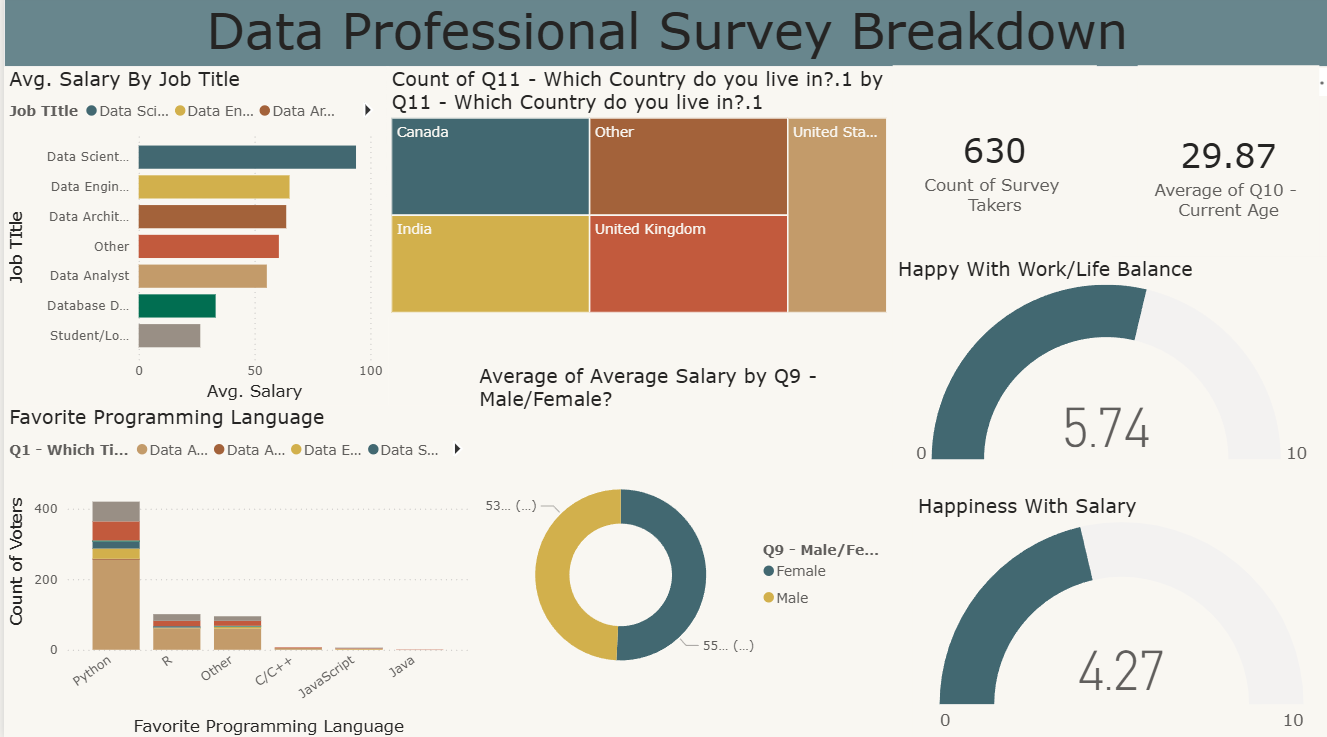

The page's visual inventory and layout, read from the dashboard file:
{"tool":"powerbi","page":{"name":"DP Survey","canvas":[1280,720],"ordinal":0},"visuals":[{"type":"textbox","box":[0,0,1280.3,69.5],"z":0},{"type":"card","fields":{"Values":["CountNonNull(Data Professional Survey.Unique ID)"]},"box":[857.6,68.9,197.2,183.7],"z":1000},{"type":"card","fields":{"Values":["Avg(Data Professional Survey.Q10 - Current Age)"]},"box":[1093.9,68.9,175.6,194.5],"z":2000},{"type":"barChart","title":"Avg. Salary By Job Title ","fields":{"Category":["Data Professional Survey.Q1 - Which Title Best Fits your Current Role?.1"],"Y":["Avg(Data Professional Survey.Average Salary)"],"Series":["Data Professional Survey.Q1 - Which Title Best Fits your Current Role?.1"]},"box":[0,69.5,370.9,327.2],"z":3000},{"type":"columnChart","title":"  Favorite Programming Language ","fields":{"Category":["Data Professional Survey.Q5 - Favorite Programming Language.1"],"Y":["CountNonNull(Data Professional Survey.Unique ID)"],"Series":["Data Professional Survey.Q1 - Which Title Best Fits your Current Role?.1"]},"box":[0,396.8,454,323.1],"z":4000},{"type":"treemap","fields":{"Group":["Data Professional Survey.Q11 - Which Country do you live in?.1"],"Values":["Count(Data Professional Survey.Q11 - Which Country do you live in?.1)"]},"box":[369.5,69.5,488.1,242.7],"z":5000},{"type":"gauge","title":"Happy With Work/Life Balance","fields":{"Y":["Avg(Data Professional Survey.Q6 - How Happy are you in your Current Position with the following? (Work/Life Balance))"],"MinValue":["Min(Data Professional Survey.Q6 - How Happy are you in your Current Position with the following? (Work/Life Balance))"],"MaxValue":["Max(Data Professional Survey.Q6 - How Happy are you in your Current Position with the following? (Work/Life Balance))1"]},"box":[857.6,253.6,422.7,205.9],"z":6000},{"type":"gauge","title":"Happiness With Salary","fields":{"Y":["Avg(Data Professional Survey.Q6 - How Happy are you in your Current Position with the following? (Salary))"],"MinValue":["Min(Data Professional Survey.Q6 - How Happy are you in your Current Position with the following? (Salary))1"],"MaxValue":["Max(Data Professional Survey.Q6 - How Happy are you in your Current Position with the following? (Salary))2"]},"box":[876.7,482.7,403.6,237.2],"z":7000},{"type":"donutChart","fields":{"Category":["Data Professional Survey.Q9 - Male/Female?"],"Y":["Avg(Data Professional Survey.Average Salary)"]},"box":[454,357.2,403.6,362.7],"z":8000}]}

Visuals, with their boxes in screenshot pixels (x1, y1, x2, y2), scaled from the page's 1280x720 canvas onto the 1327x737 screenshot:
textbox: {"left": 0, "top": 0, "right": 1326, "bottom": 71}
card - CountNonNull(Data Professional Survey.Unique ID): {"left": 889, "top": 71, "right": 1094, "bottom": 259}
card - Avg(Data Professional Survey.Q10 - Current Age): {"left": 1134, "top": 71, "right": 1316, "bottom": 270}
"Avg. Salary By Job Title " barChart: {"left": 0, "top": 71, "right": 385, "bottom": 406}
"  Favorite Programming Language " columnChart: {"left": 0, "top": 406, "right": 471, "bottom": 736}
treemap - Data Professional Survey.Q11 - Which Country do you live in?.1 x Count(Data Professional Survey.Q11 - Which Country do you live in?.1): {"left": 383, "top": 71, "right": 889, "bottom": 320}
"Happy With Work/Life Balance" gauge: {"left": 889, "top": 260, "right": 1326, "bottom": 470}
"Happiness With Salary" gauge: {"left": 909, "top": 494, "right": 1326, "bottom": 736}
donutChart - Data Professional Survey.Q9 - Male/Female? x Avg(Data Professional Survey.Average Salary): {"left": 471, "top": 366, "right": 889, "bottom": 736}
